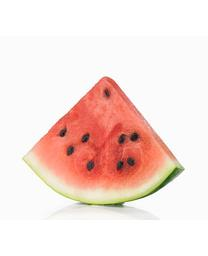watermelon: (22, 74, 185, 205)
